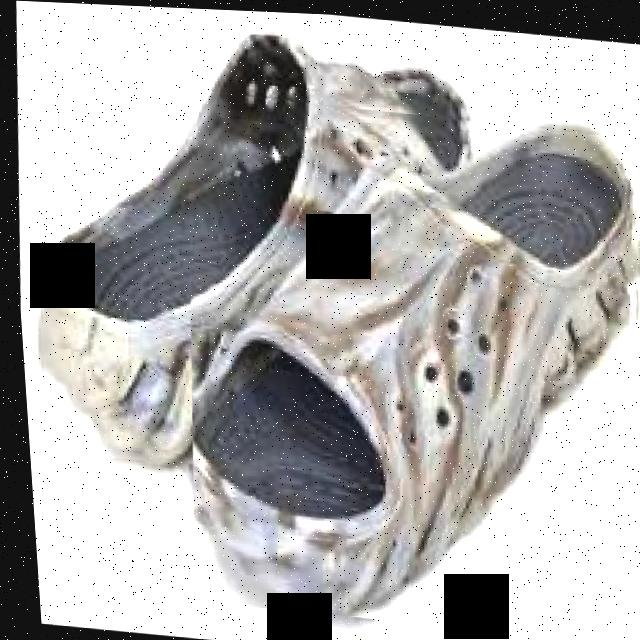shoe: (187, 127, 636, 613), (39, 32, 471, 462)
